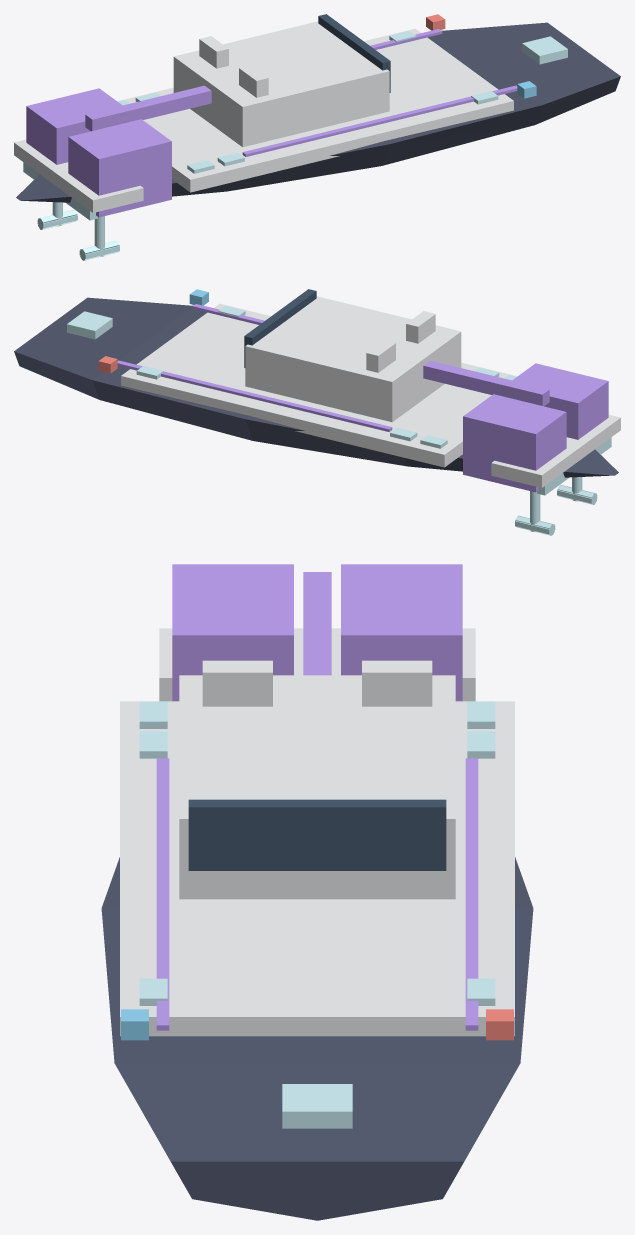
Rendered from vortex_twin_turbo.glb.
The picture shows the model from 3 angles, top to bottom: view 1: azimuth 30°, elevation 25°; view 2: azimuth 150°, elevation 25°; view 3: azimuth 270°, elevation 25°; orthographic projection. The views are drawn at different scales.
Visible parts, largest first — view 1: 02_Sculpted_cockpit_pod, 00_Sculpted_V_planing_hull, 01_Upper_deck, 23_High_performance_engine_cowl, 17_High_performance_engine_cowl, 32_Stern_swim_platform, 33_Twin_turbo_air_scoop, 10_Racing_pinstripe, 03_Tinted_panoramic_windshield, 29_Bow_cleat, 07_Seat_back, 05_Seat_back (+2 smaller); view 2: 02_Sculpted_cockpit_pod, 00_Sculpted_V_planing_hull, 01_Upper_deck, 17_High_performance_engine_cowl, 23_High_performance_engine_cowl, 32_Stern_swim_platform, 33_Twin_turbo_air_scoop, 09_Racing_pinstripe, 03_Tinted_panoramic_windshield, 29_Bow_cleat, 05_Seat_back, 07_Seat_back (+2 smaller); view 3: 01_Upper_deck, 00_Sculpted_V_planing_hull, 02_Sculpted_cockpit_pod, 03_Tinted_panoramic_windshield, 17_High_performance_engine_cowl, 23_High_performance_engine_cowl, 09_Racing_pinstripe, 10_Racing_pinstripe, 05_Seat_back, 07_Seat_back, 29_Bow_cleat, 32_Stern_swim_platform (+3 smaller).
Boxes of the visible parts, x1,y1,x2,y2 form: 02_Sculpted_cockpit_pod: (173,21,389,147); 00_Sculpted_V_planing_hull: (16,22,620,202); 01_Upper_deck: (117,28,513,192); 23_High_performance_engine_cowl: (68,119,171,217); 17_High_performance_engine_cowl: (26,88,122,164); 32_Stern_swim_platform: (14,139,143,212); 33_Twin_turbo_air_scoop: (85,85,211,131); 10_Racing_pinstripe: (242,85,517,156); 03_Tinted_panoramic_windshield: (318,14,390,92); 29_Bow_cleat: (522,36,567,64); 07_Seat_back: (239,65,268,97); 05_Seat_back: (199,36,228,68); 02_Sculpted_cockpit_pod: (245,296,461,422); 00_Sculpted_V_planing_hull: (14,297,618,477); 01_Upper_deck: (121,303,517,467); 17_High_performance_engine_cowl: (463,394,566,492); 23_High_performance_engine_cowl: (512,363,608,439); 32_Stern_swim_platform: (491,414,620,487); 33_Twin_turbo_air_scoop: (423,360,549,406); 09_Racing_pinstripe: (117,360,392,431); 03_Tinted_panoramic_windshield: (244,289,316,367); 29_Bow_cleat: (67,311,112,339); 05_Seat_back: (366,340,395,372); 07_Seat_back: (406,311,435,343); 01_Upper_deck: (120,701,514,1036); 00_Sculpted_V_planing_hull: (101,857,533,1220); 02_Sculpted_cockpit_pod: (179,675,455,899); 03_Tinted_panoramic_windshield: (188,799,446,870); 17_High_performance_engine_cowl: (341,564,462,701); 23_High_performance_engine_cowl: (172,564,293,701); 09_Racing_pinstripe: (465,758,478,1030); 10_Racing_pinstripe: (156,758,169,1030); 05_Seat_back: (362,660,432,706); 07_Seat_back: (202,660,272,706); 29_Bow_cleat: (282,1084,352,1128); 32_Stern_swim_platform: (159,628,475,701).
Size of the model in its own units: 5.59 by 1.36 by 1.85.
